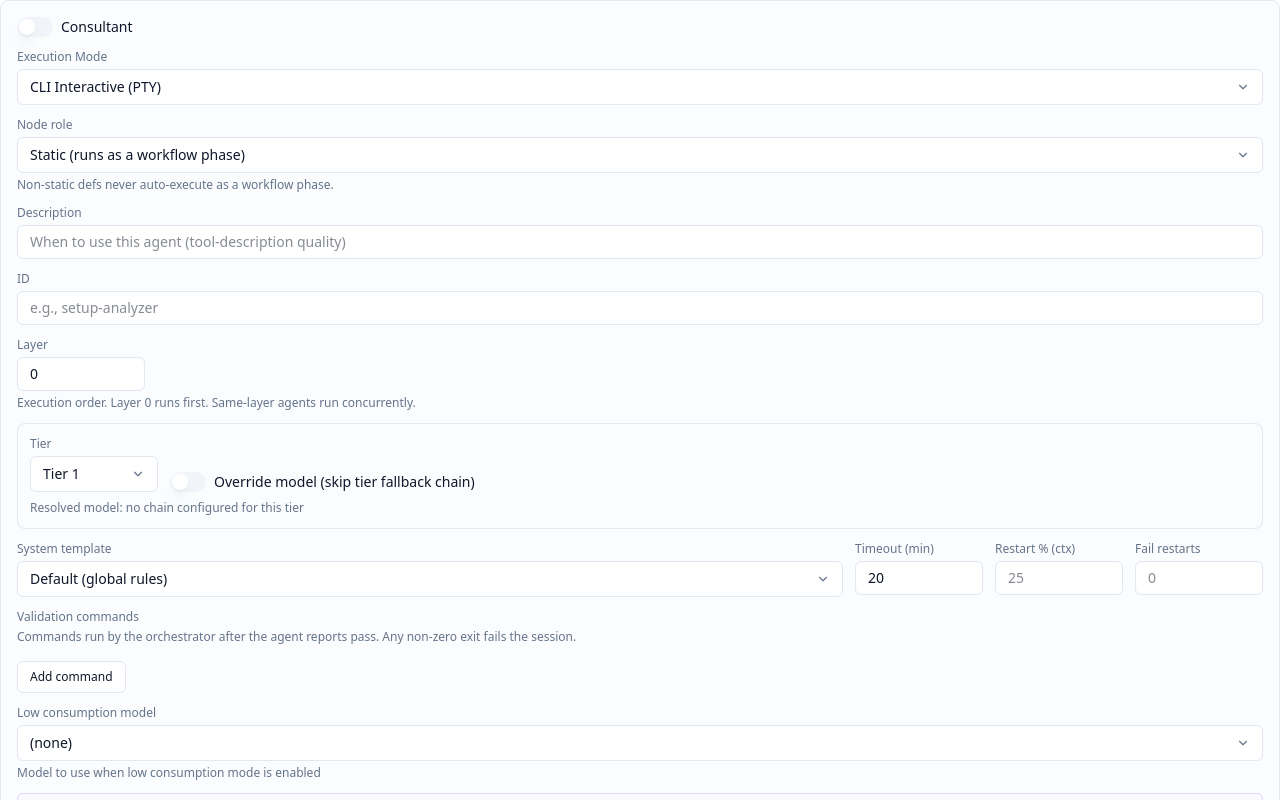
Scenario: AgentDefForm — model dropdown routing › cli_interactive mode (default) › Model dropdown shows CLI model options
This screenshot has width=1280, height=800.
Click the 2nd switch named "override model" at (188, 482), box [170,472,206,492]
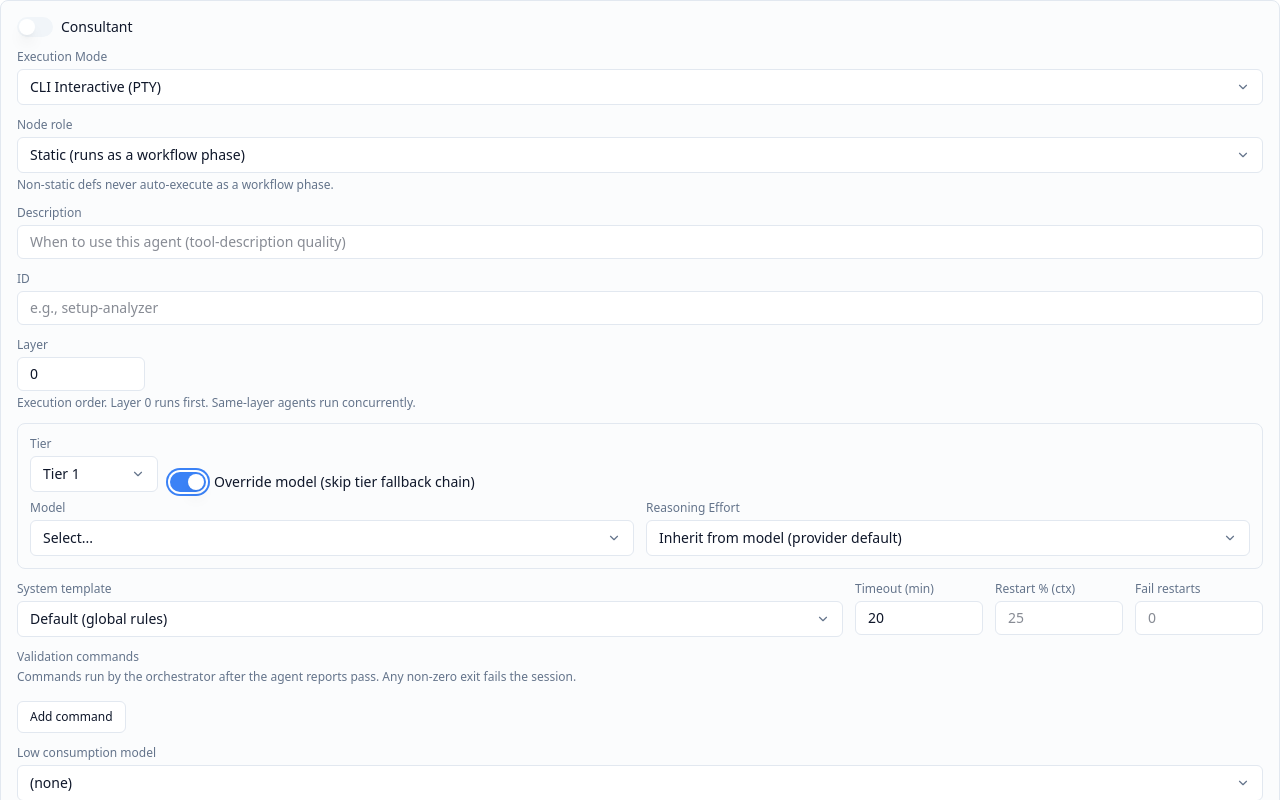
Click the button "Select..." at (68, 538), box [30,520,634,556]
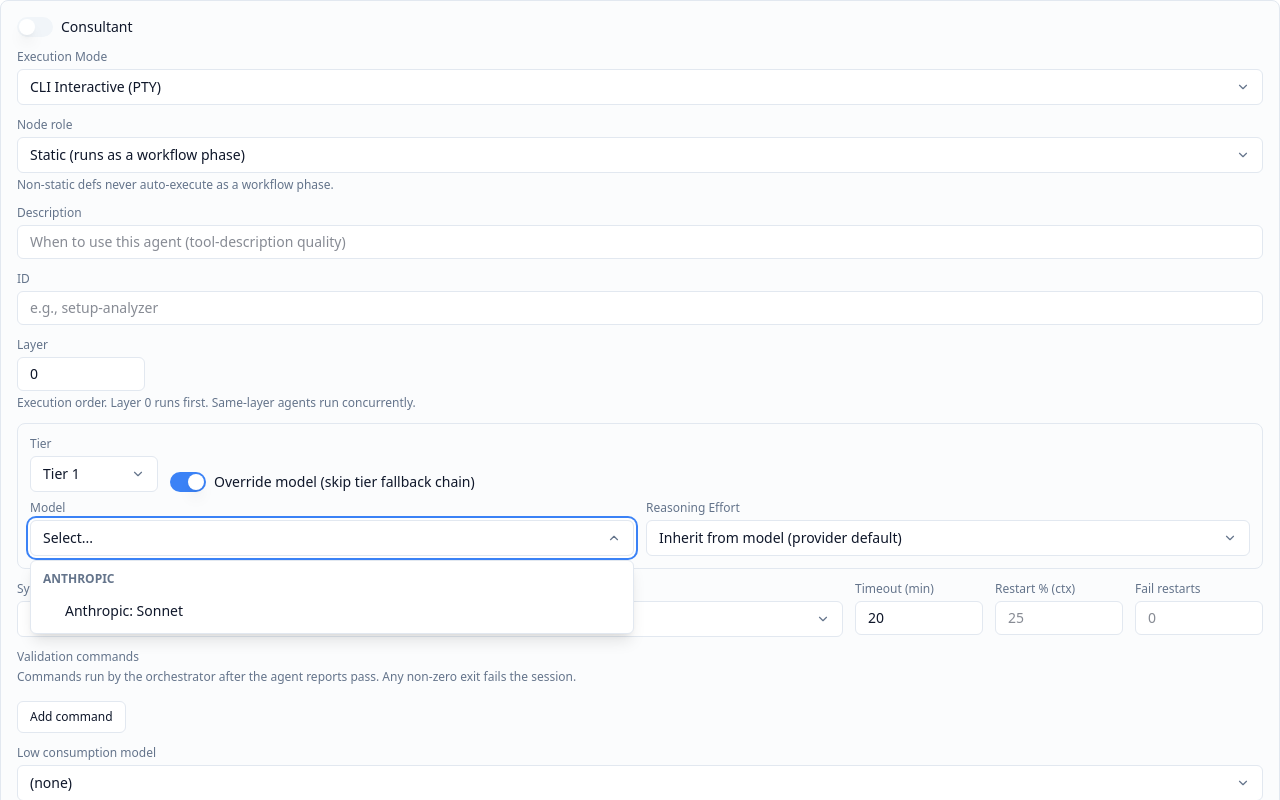
Check: the text "Anthropic: Sonnet" is shown, box [65,601,183,621]
